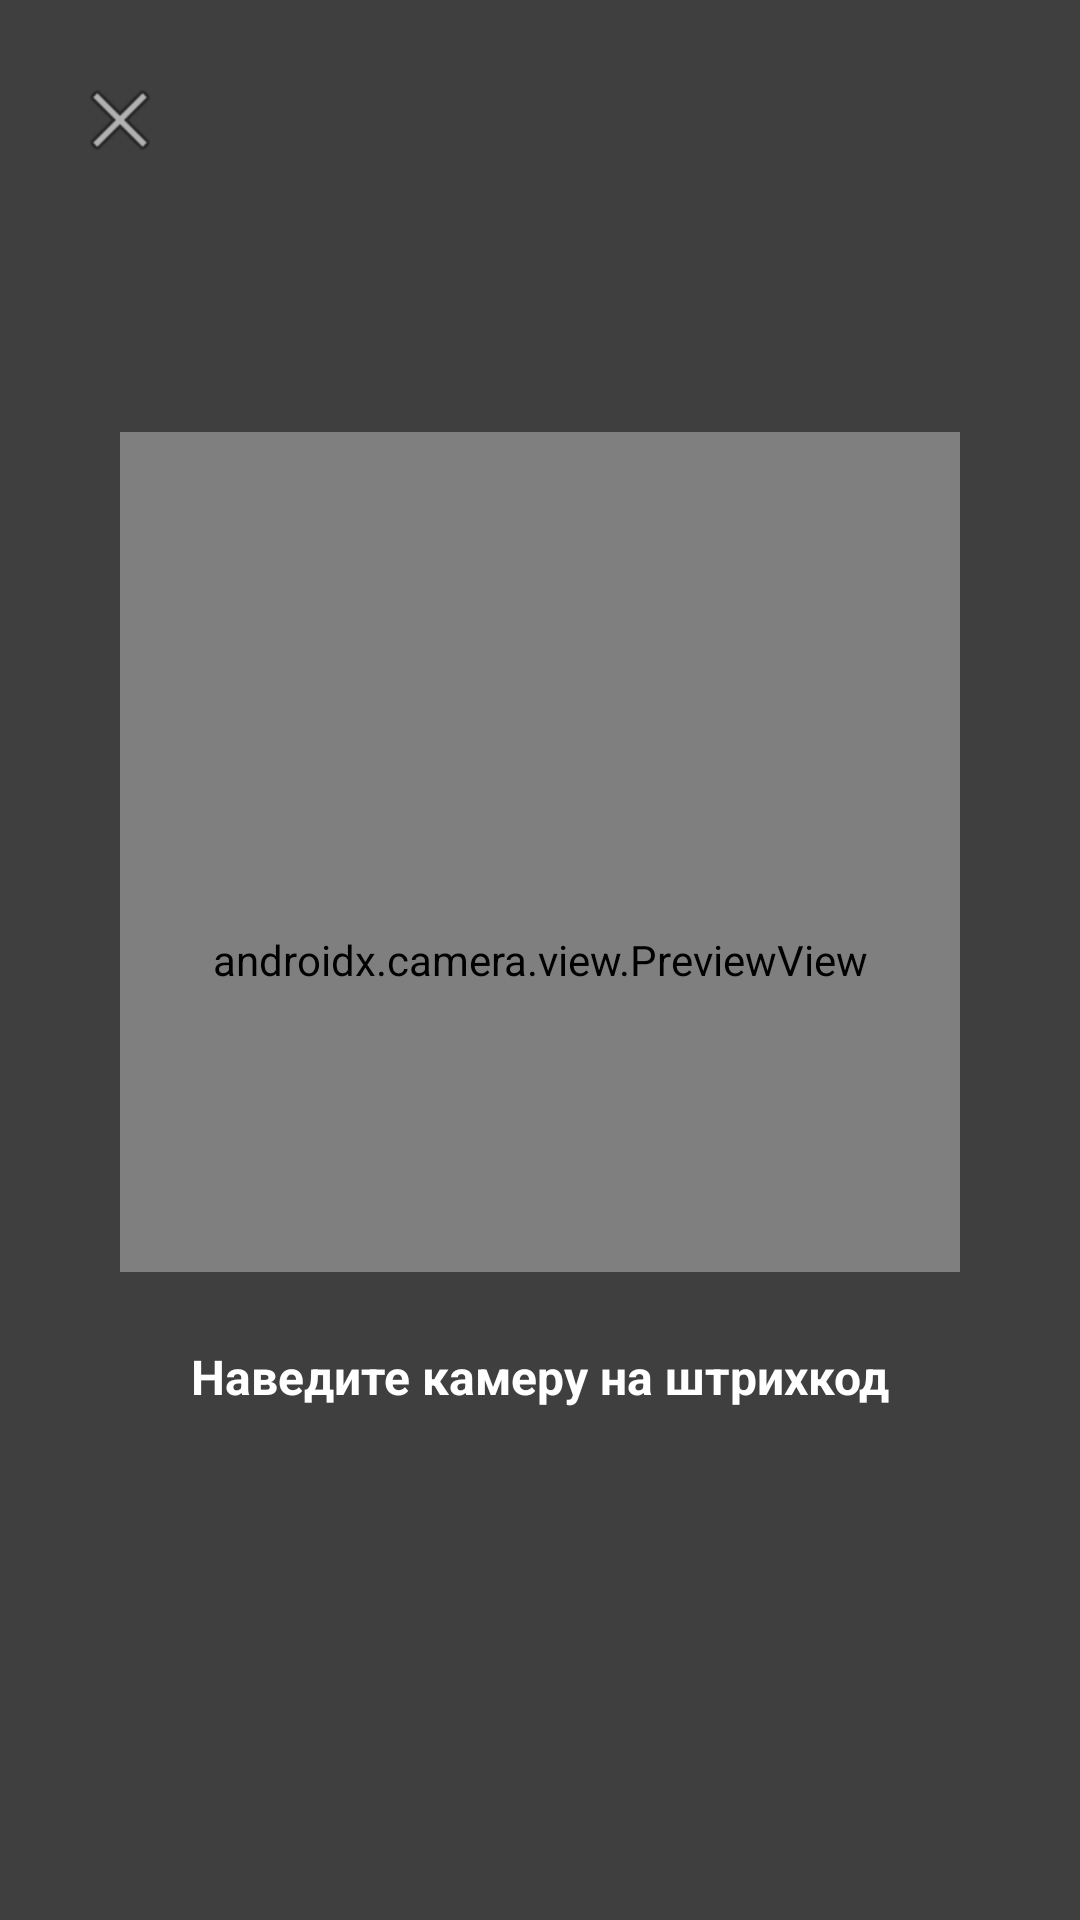

Icon click points for this 1080*1920 phone screenshot, format (x,y):
Close: (120,120)
